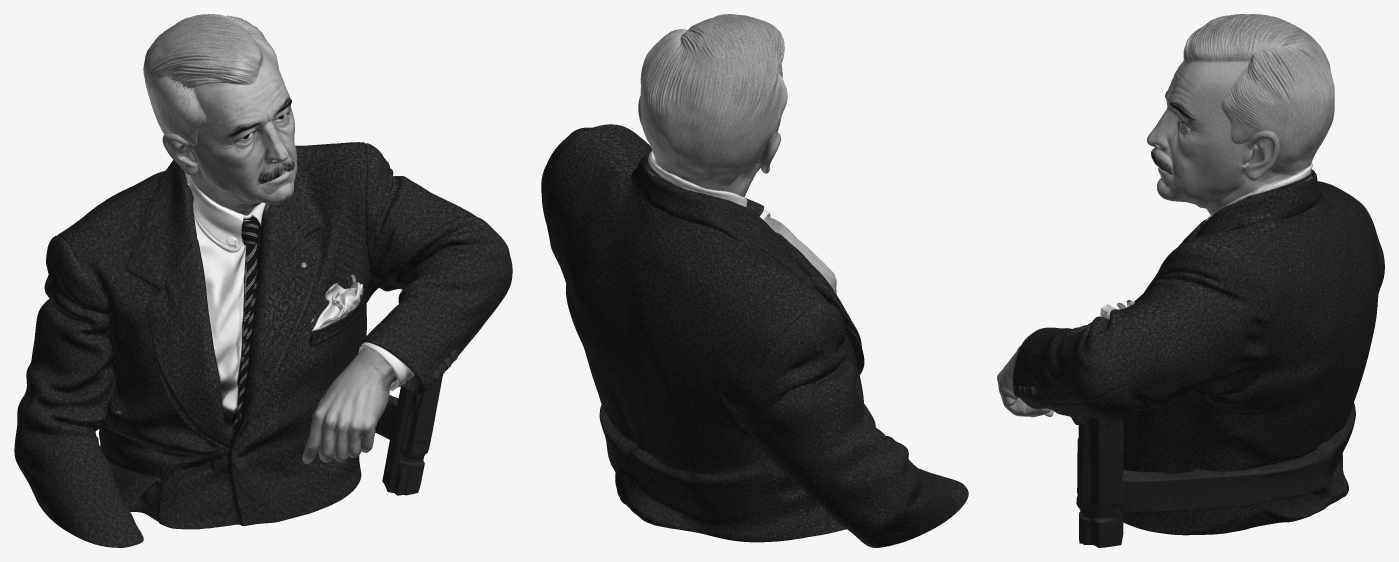
Rendered from Meshy_AI_Contemplation_Against_1025052545_texture-v1-v1.glb.
3 views of the same model, side by side, from view 1: azimuth 30°, elevation 25°; view 2: azimuth 150°, elevation 25°; view 3: azimuth 270°, elevation 25° (orthographic). The views are drawn at different scales.
Size of the model in its own units: 1.85 by 1.9 by 1.46.
Materials: 1 (1 with a texture image).
